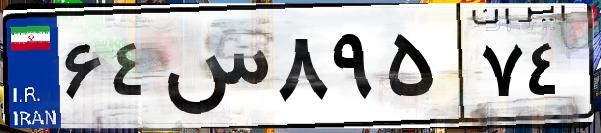4: (525, 38, 570, 115), (110, 28, 158, 98)
5: (385, 28, 445, 110)
6: (57, 26, 110, 100)
7: (475, 38, 525, 113)
8: (270, 28, 330, 110)
9: (330, 28, 385, 110)
س: (158, 20, 270, 120)
